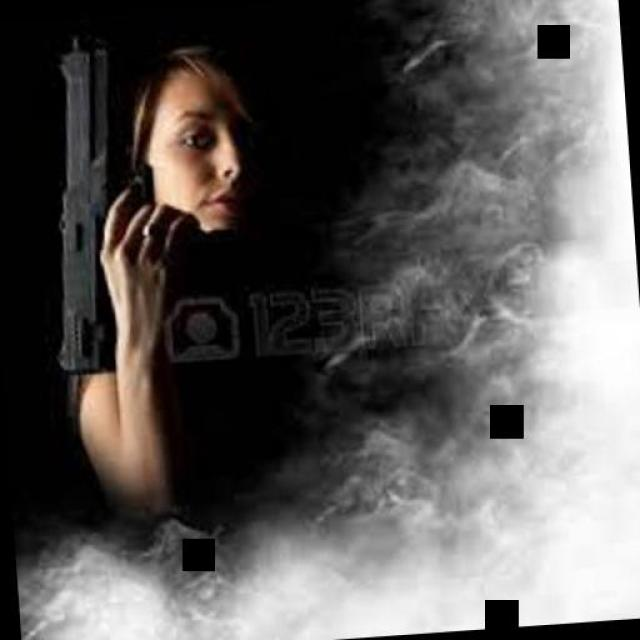gun: (28, 25, 162, 379)
